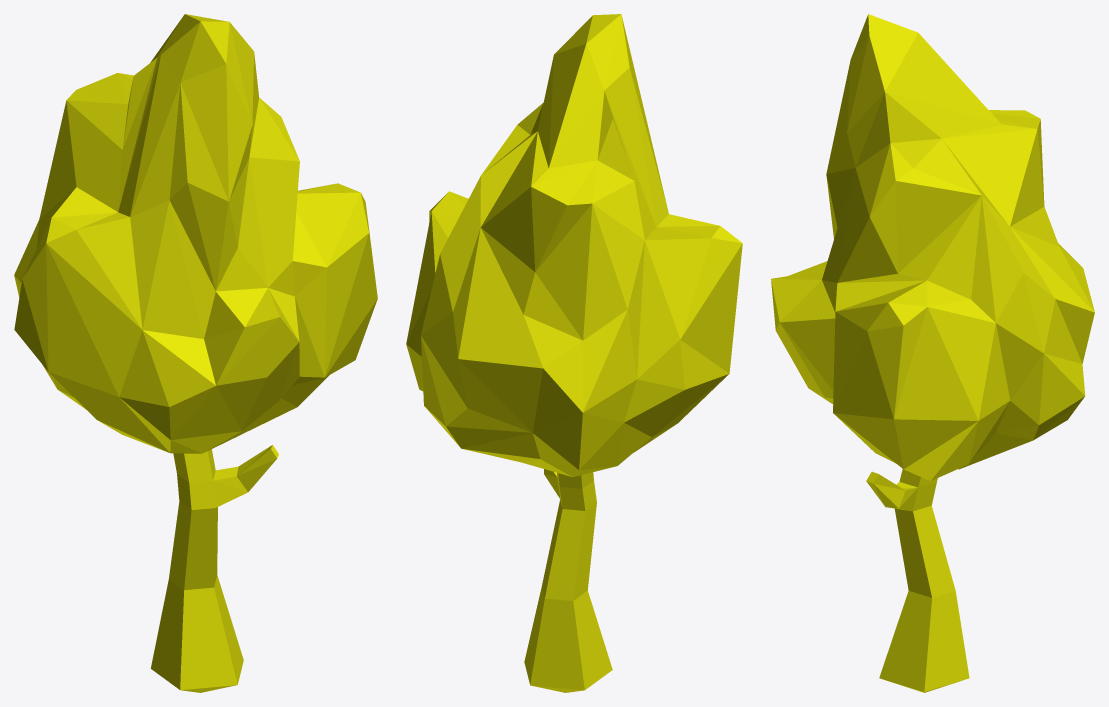
File: SM_Generic_Tree_03.glb
The picture shows the model from 3 angles, left to right: view 1: azimuth 30°, elevation 25°; view 2: azimuth 150°, elevation 25°; view 3: azimuth 270°, elevation 25°; orthographic projection. The views are drawn at different scales.
Parts seen in each view (by area): view 1: SM_Generic_Tree_03; view 2: SM_Generic_Tree_03; view 3: SM_Generic_Tree_03.
Part boxes in pixels (box(x1,y1,x2,y2)): SM_Generic_Tree_03: box(14, 14, 377, 692); SM_Generic_Tree_03: box(406, 14, 742, 692); SM_Generic_Tree_03: box(771, 14, 1094, 692).
Bounding box in the file's own units: 1.73 × 3.49 × 1.54.
1 material, 1 textured.
